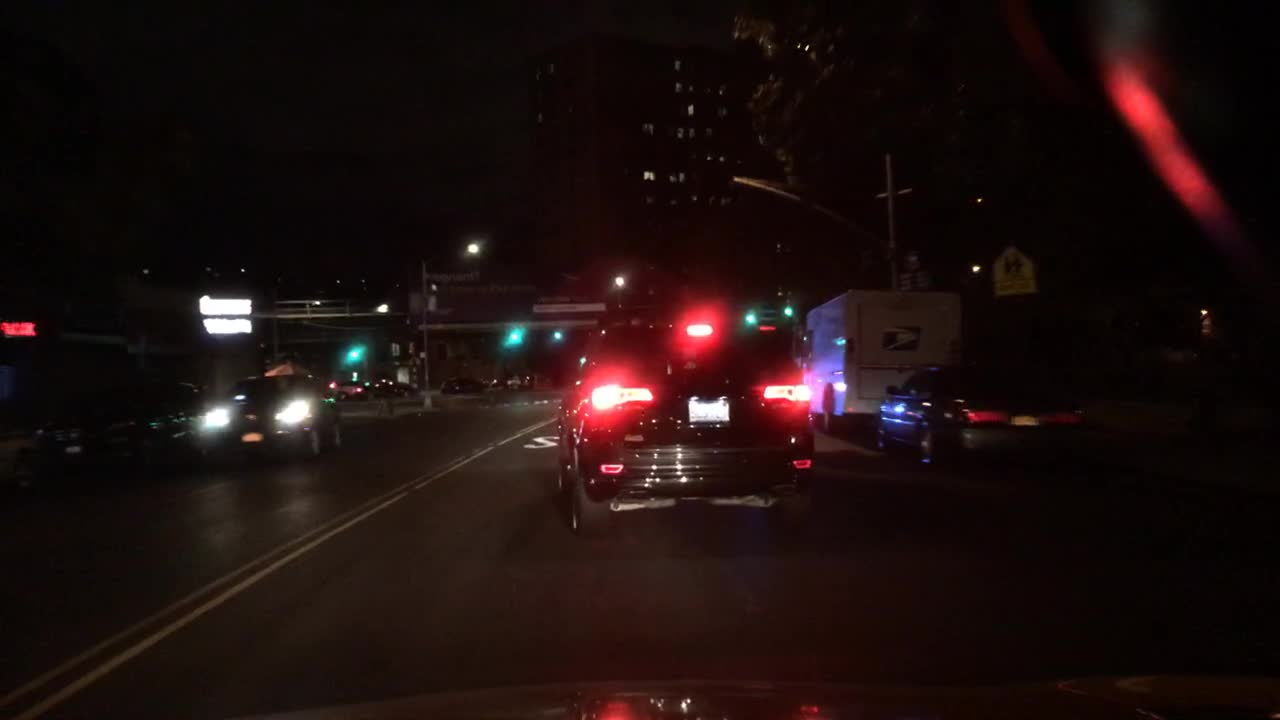car: (556, 281, 820, 535), (0, 320, 199, 533), (872, 357, 1095, 474), (206, 364, 348, 466), (489, 371, 545, 389), (377, 377, 425, 396), (329, 380, 368, 399), (438, 376, 483, 391)
traffic light: (744, 304, 760, 330), (350, 343, 362, 364), (509, 325, 519, 343), (551, 327, 563, 342), (783, 304, 793, 317)
traffic sign: (991, 245, 1038, 301)
truck: (803, 282, 964, 430)
